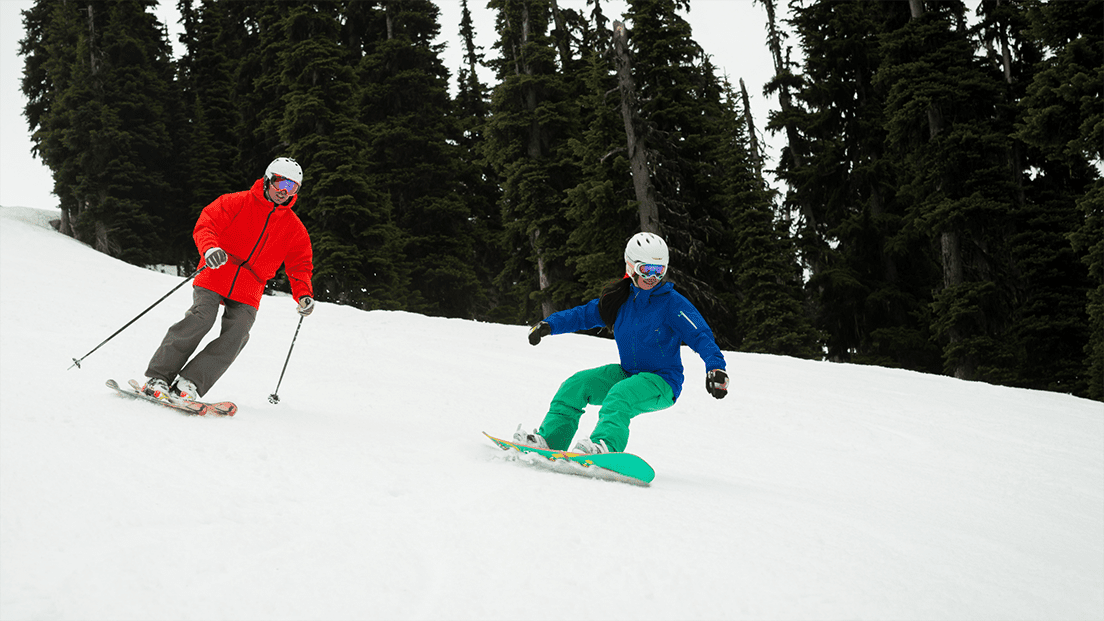skier: (68, 158, 324, 418)
snowboarder: (482, 232, 727, 494)
